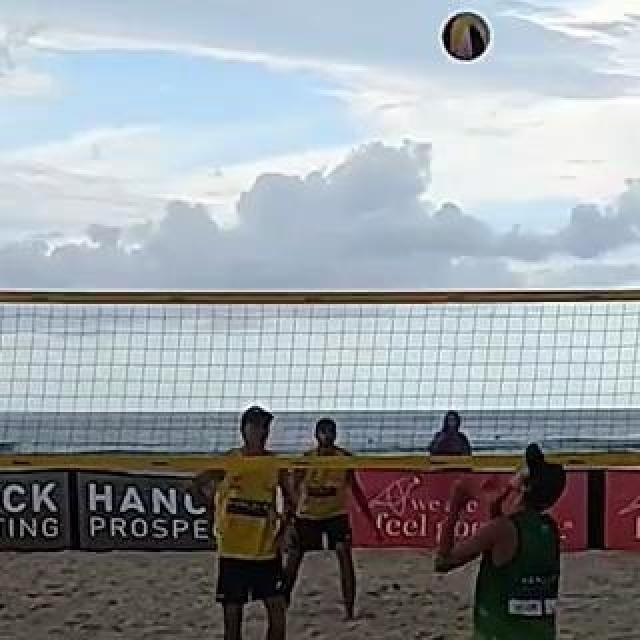volleyball: (441, 12, 491, 62)
